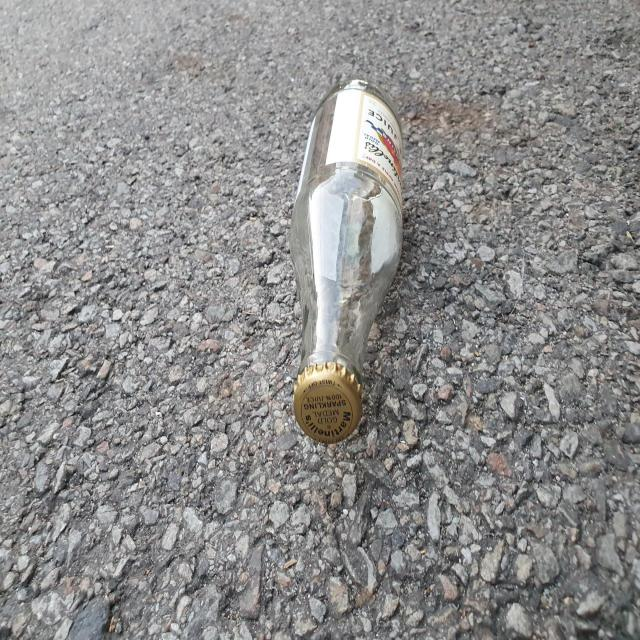glass: (290, 80, 403, 443)
